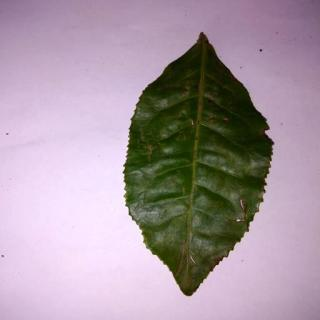Bird Eye Spot: (127, 32, 274, 297)
